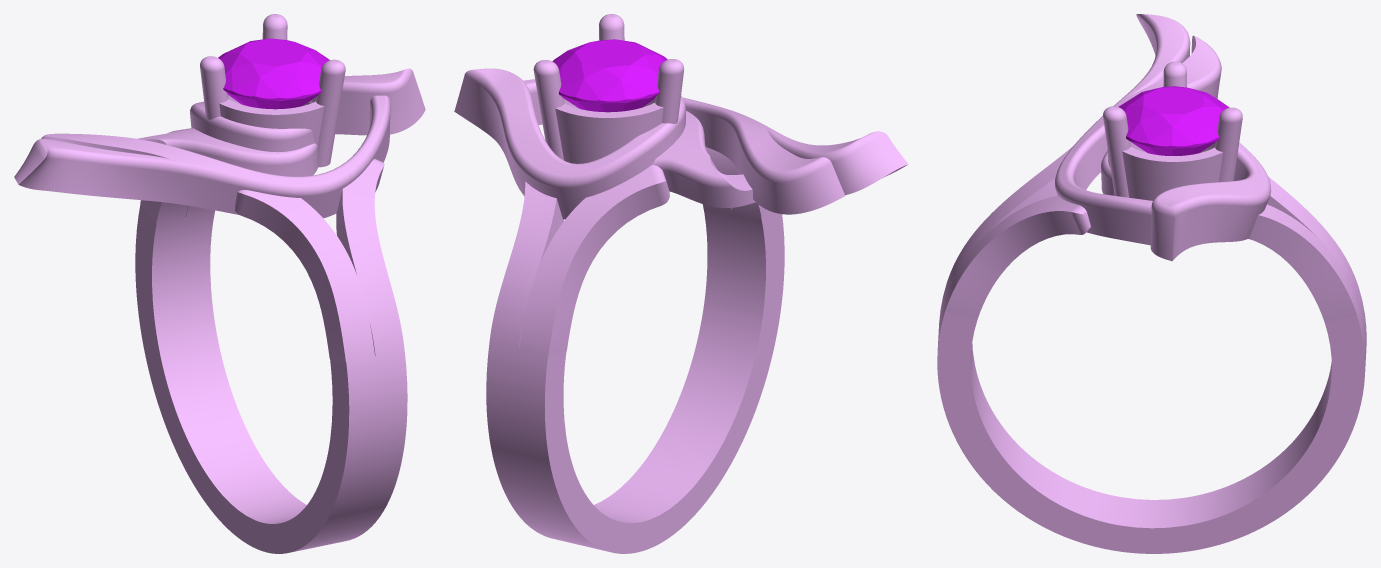
The picture shows the model from 3 angles, left to right: view 1: azimuth 30°, elevation 25°; view 2: azimuth 150°, elevation 25°; view 3: azimuth 270°, elevation 25°; orthographic projection. The views are drawn at different scales.
Visible parts, largest first — view 1: _0, Diamond_Round_1; view 2: _0, Diamond_Round_1; view 3: _0, Diamond_Round_1.
Boxes of the visible parts, box(x1,y1,x2,y2) form: _0: box(14, 14, 425, 553); Diamond_Round_1: box(218, 38, 329, 109); _0: box(454, 14, 908, 553); Diamond_Round_1: box(552, 39, 667, 112); _0: box(937, 14, 1366, 553); Diamond_Round_1: box(1118, 86, 1229, 155).
Size of the model in its own units: 22.09 by 23.7 by 20.2.
